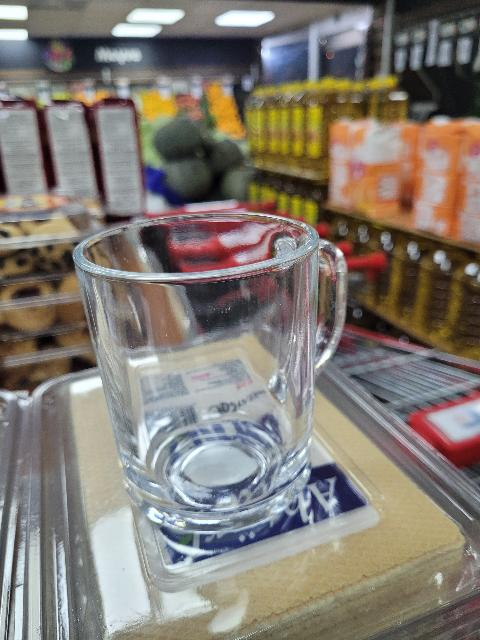Cam: (68, 210, 351, 528)
